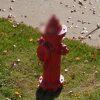Hydrant: (28, 10, 76, 93)
